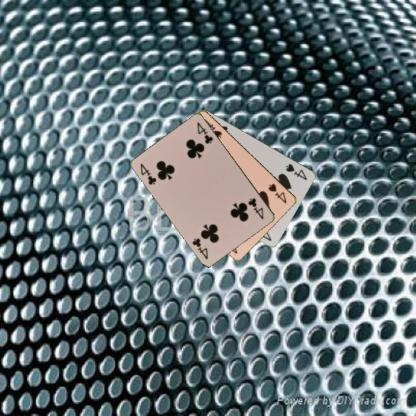4c: (138, 161, 158, 186), (246, 195, 265, 221)
4s: (284, 160, 308, 182), (266, 181, 288, 204)
